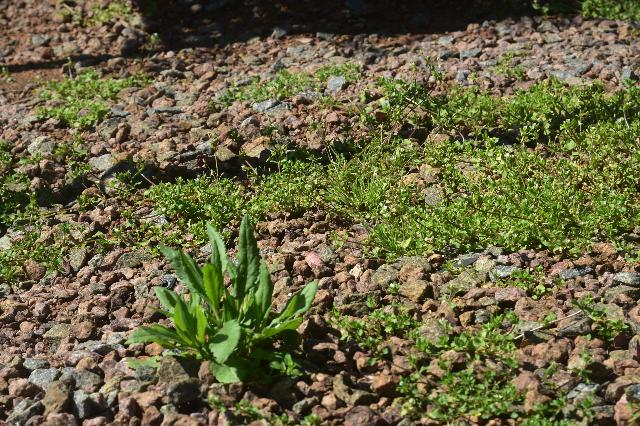MalezaMontesDelPlata: (133, 211, 323, 404), (337, 285, 533, 426), (97, 146, 322, 223), (505, 134, 640, 247), (0, 122, 96, 267), (377, 50, 505, 145), (323, 140, 416, 260), (209, 46, 367, 112), (22, 54, 156, 130), (501, 73, 640, 130)
